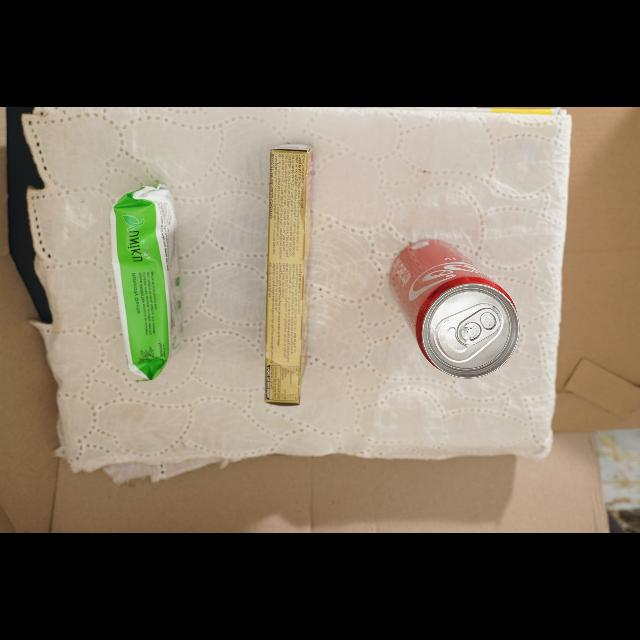banh_toppo_socola: (265, 146, 312, 406)
coca_cola: (390, 240, 519, 377)
khan_giay: (110, 184, 178, 381)
